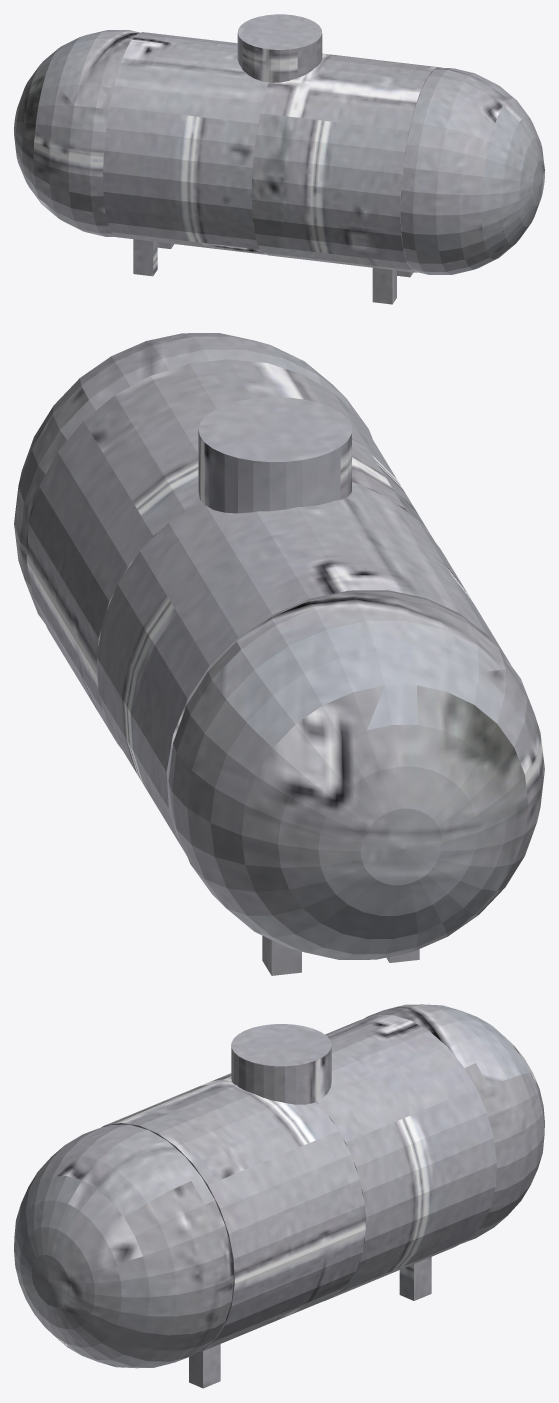
The model's file is Propane_Tank.obj.
3 renders of one model, top to bottom at view 1: azimuth 30°, elevation 25°; view 2: azimuth 150°, elevation 25°; view 3: azimuth 270°, elevation 25°, orthographic. The views are drawn at different scales.
Parts seen in each view (by area): view 1: Tanks_Polls_GasStation_0; view 2: Tanks_Polls_GasStation_0; view 3: Tanks_Polls_GasStation_0.
Boxes of the visible parts, box(x1,y1,x2,y2) form: Tanks_Polls_GasStation_0: box(14, 14, 544, 304); Tanks_Polls_GasStation_0: box(14, 333, 544, 975); Tanks_Polls_GasStation_0: box(14, 1004, 544, 1388).
Size of the model in its own units: 2.63 by 1.57 by 2.65.
